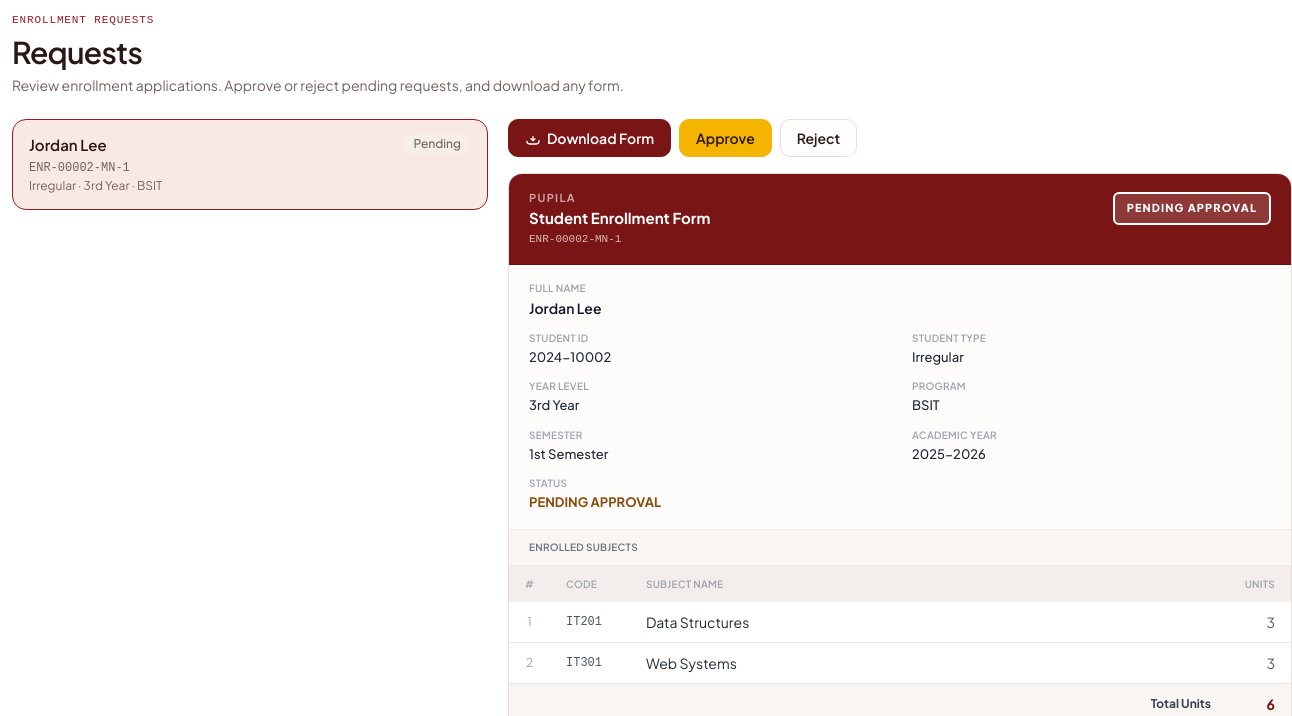
Test: RequestsPage — staff user › hides action buttons after successful confirm and does not show them again
The width and height of the screenshot is (1292, 716).
Click the button with test id "confirm-btn" at (725,138), box [679,119,772,157]
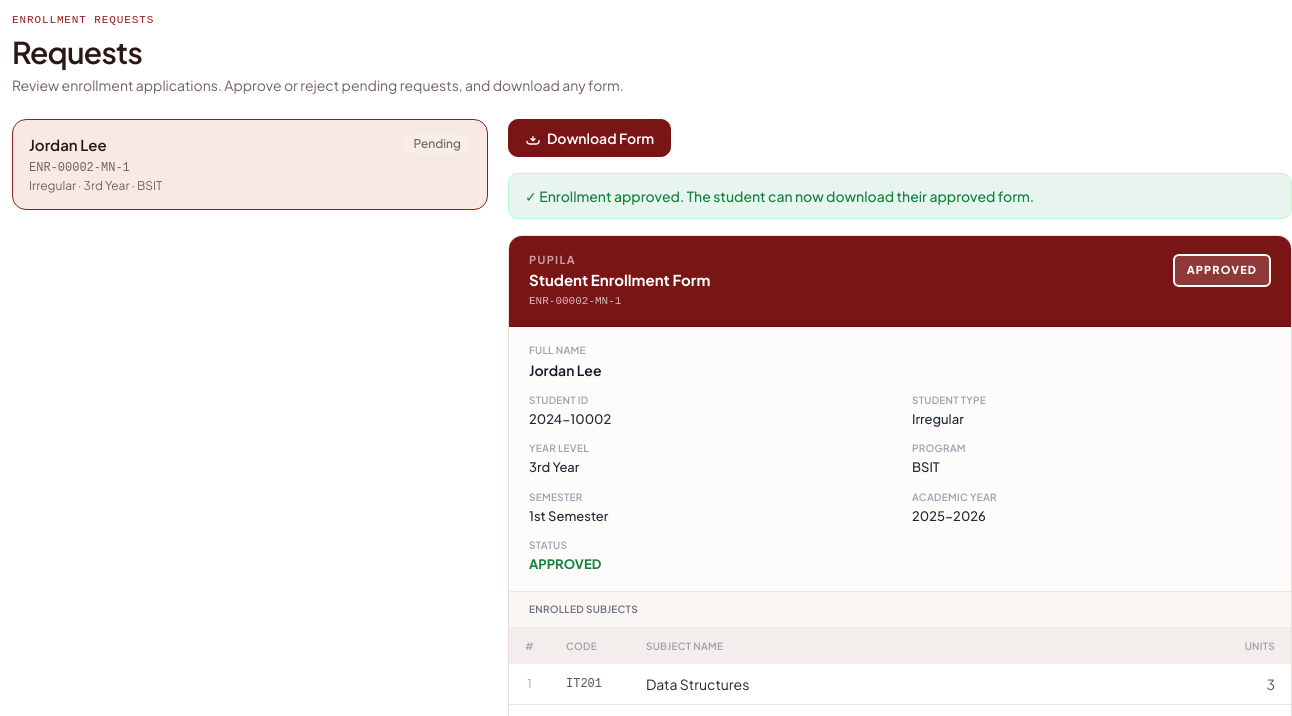
expect the text with test id "action-success" is shown: met, box [508,173,1291,219]
expect the button with test id "confirm-btn" is gone: met
expect the button with test id "reject-btn" is gone: met
